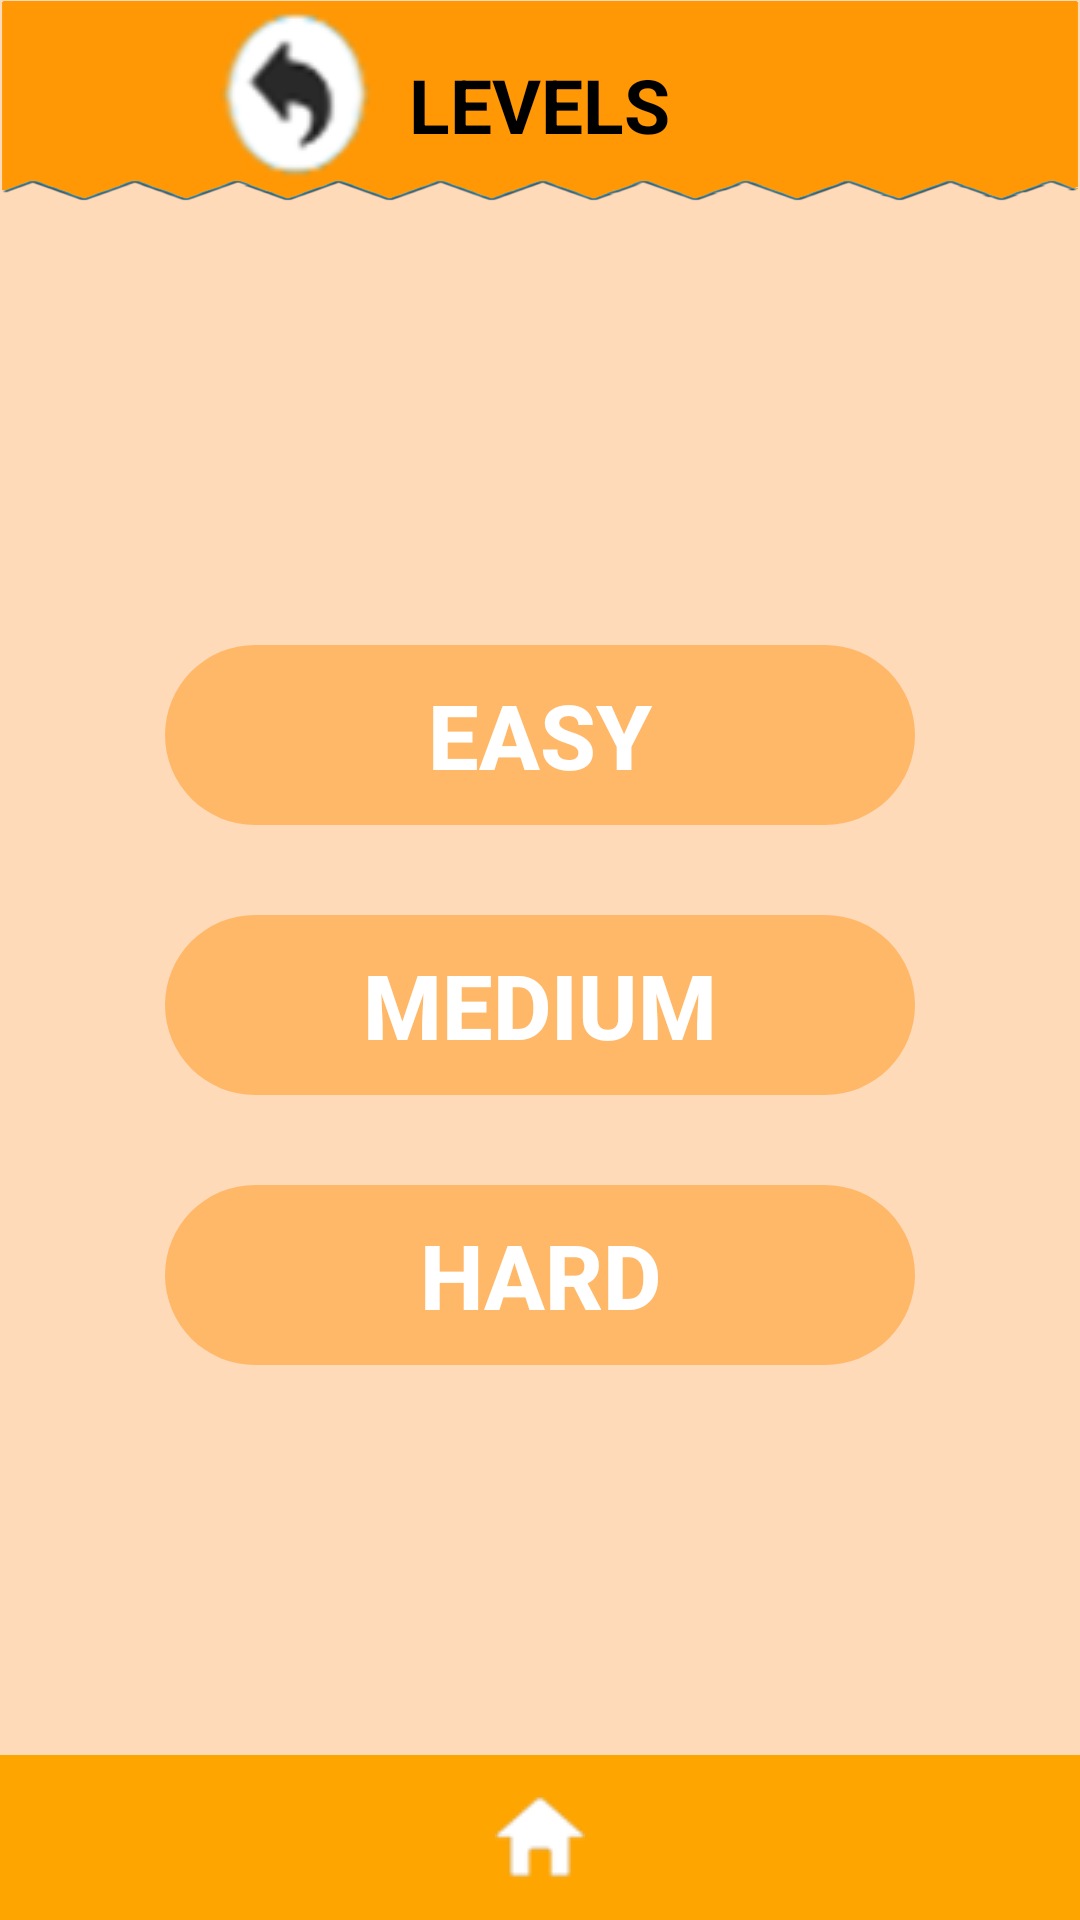

Icon bounding boxes for this 1080px x 1920px phone screenshot, format Rect(x1, y1, x2, y2):
homy: Rect(495, 1797, 585, 1877)
